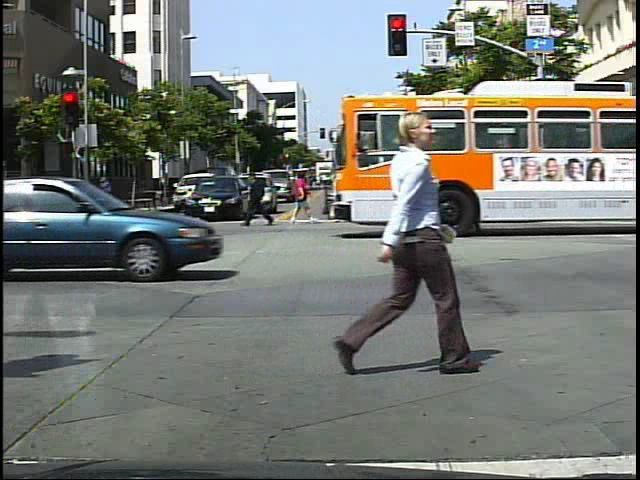person: (332, 83, 461, 382), (333, 164, 365, 228), (246, 165, 276, 233), (287, 166, 316, 230), (550, 160, 573, 211)
